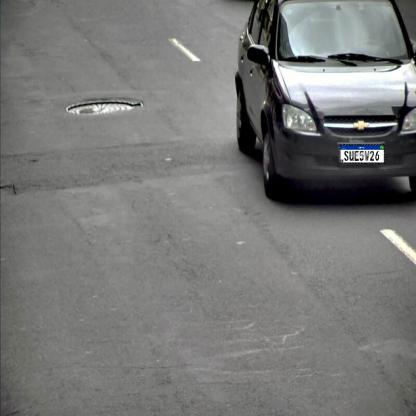PlacaM: (340, 144, 384, 164)
